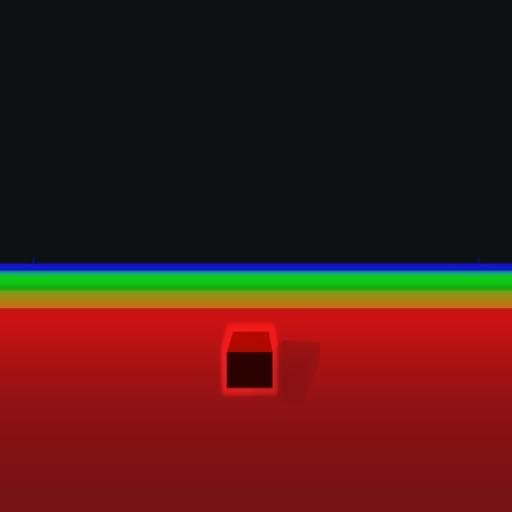debris_container: (223, 321, 275, 397)
